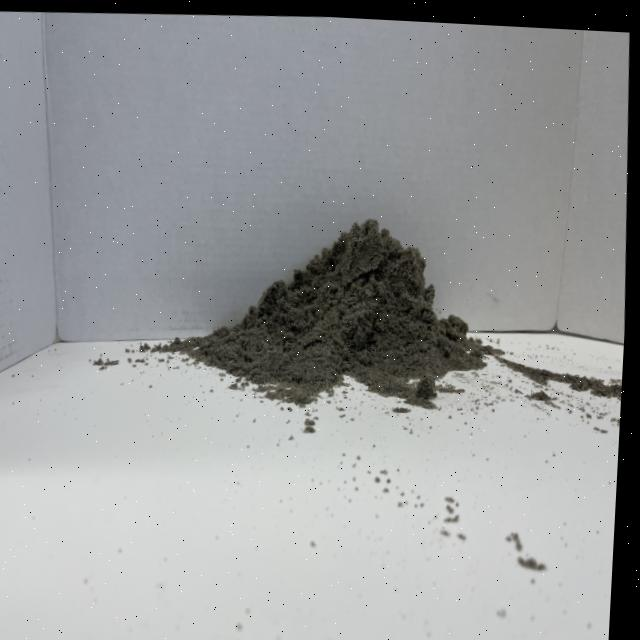sand: (149, 187, 513, 431)
